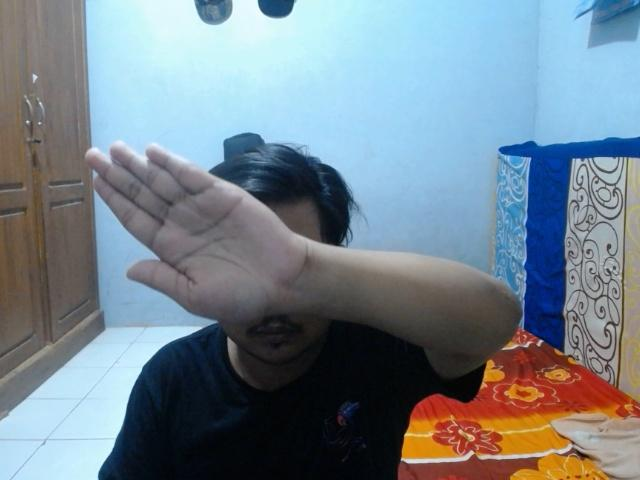Release: (82, 133, 310, 331)
